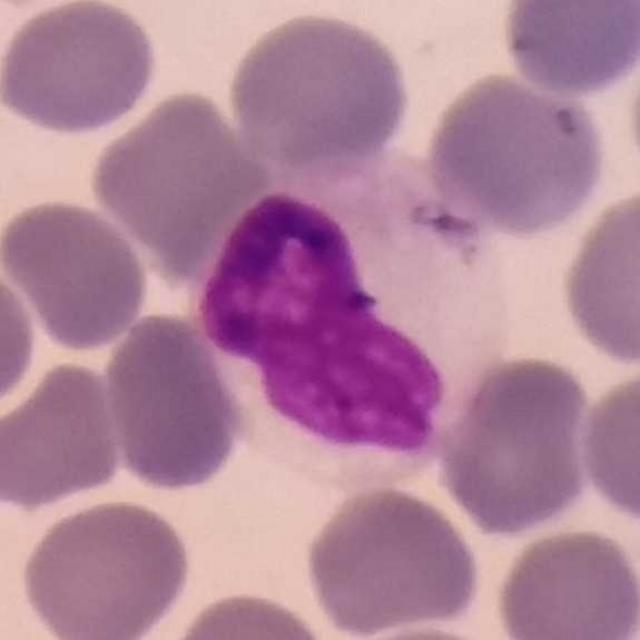Monocyte: (187, 136, 517, 494)
RBC: (84, 84, 270, 260), (223, 7, 415, 176), (419, 68, 611, 236), (432, 350, 599, 538), (301, 482, 484, 639), (98, 308, 250, 497), (17, 494, 194, 640), (0, 194, 154, 354), (0, 0, 161, 137), (0, 356, 126, 511), (491, 523, 640, 640), (555, 184, 640, 370), (495, 0, 640, 100), (576, 360, 640, 529), (158, 585, 336, 640), (0, 254, 40, 422)
